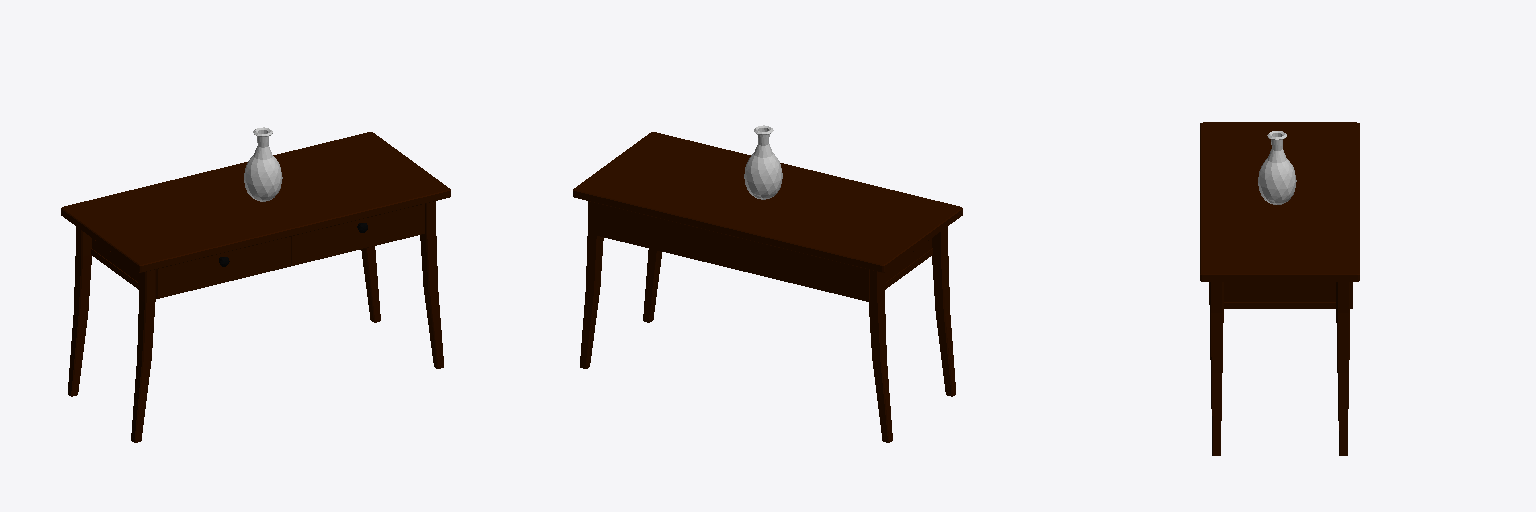
Rendered from rv_table_with_vase.obj.
The picture shows the model from 3 angles: view 1: azimuth 30°, elevation 25°; view 2: azimuth 150°, elevation 25°; view 3: azimuth 270°, elevation 25°; orthographic projection.
Visible parts, largest first — view 1: Table_grp table, Table_grp table_drawer_r, table_drawer_l Table_grp, table_Vase1; view 2: Table_grp table, table_Vase1; view 3: Table_grp table, table_Vase1.
Part boxes in pixels (left/top/right/bottom): Table_grp table: left=61, top=132, right=450, bottom=442; Table_grp table_drawer_r: left=156, top=237, right=290, bottom=298; table_drawer_l Table_grp: left=291, top=204, right=424, bottom=265; table_Vase1: left=244, top=127, right=282, bottom=201; Table_grp table: left=573, top=132, right=962, bottom=442; table_Vase1: left=744, top=125, right=782, bottom=199; Table_grp table: left=1200, top=122, right=1359, bottom=455; table_Vase1: left=1258, top=131, right=1296, bottom=204.
Size of the model in its own units: 5.01 by 3.83 by 2.22.